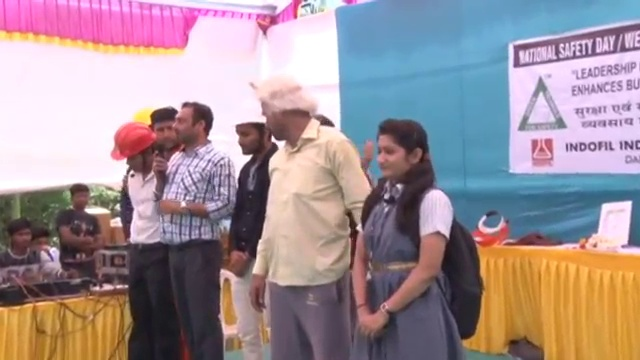helmet: (111, 124, 162, 164), (230, 102, 270, 132)
helmet_off: (369, 119, 433, 192), (258, 83, 318, 140), (169, 104, 213, 152), (146, 108, 174, 153), (5, 218, 34, 259), (30, 225, 50, 258), (69, 184, 90, 214)
helmet_on: (112, 123, 162, 181), (229, 104, 270, 159)
person: (251, 83, 373, 359), (351, 109, 481, 357), (150, 93, 236, 360), (112, 121, 184, 360), (225, 99, 282, 354), (0, 219, 77, 287), (53, 181, 101, 272)
